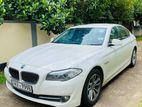car: (4, 22, 138, 107)
